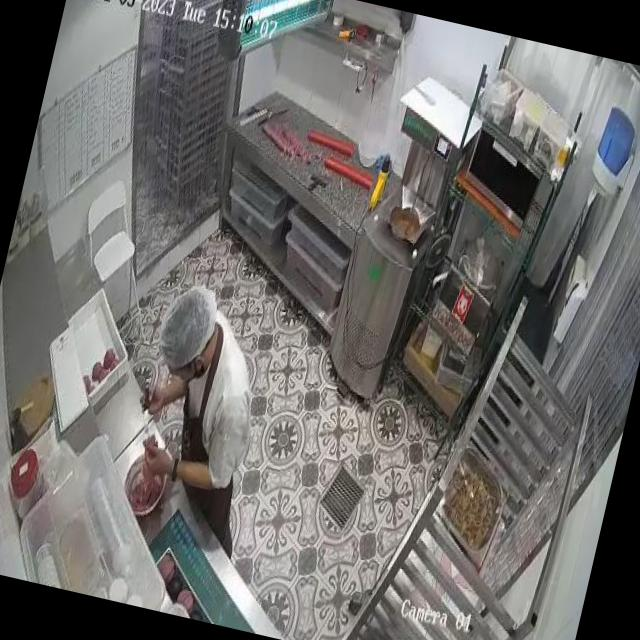hairnet: (156, 285, 222, 370)
